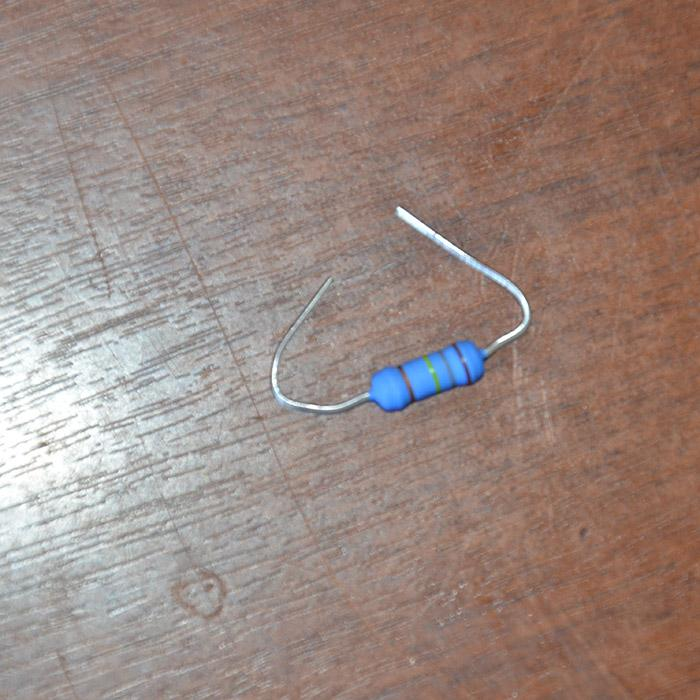resistor: (367, 338, 487, 412)
